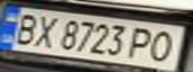2: (90, 20, 112, 56)
3: (106, 21, 133, 57)
7: (72, 19, 96, 54)
8: (54, 17, 81, 52)
B: (3, 11, 45, 46)
O: (142, 28, 187, 63)
P: (124, 25, 163, 60)
X: (27, 12, 63, 50)
